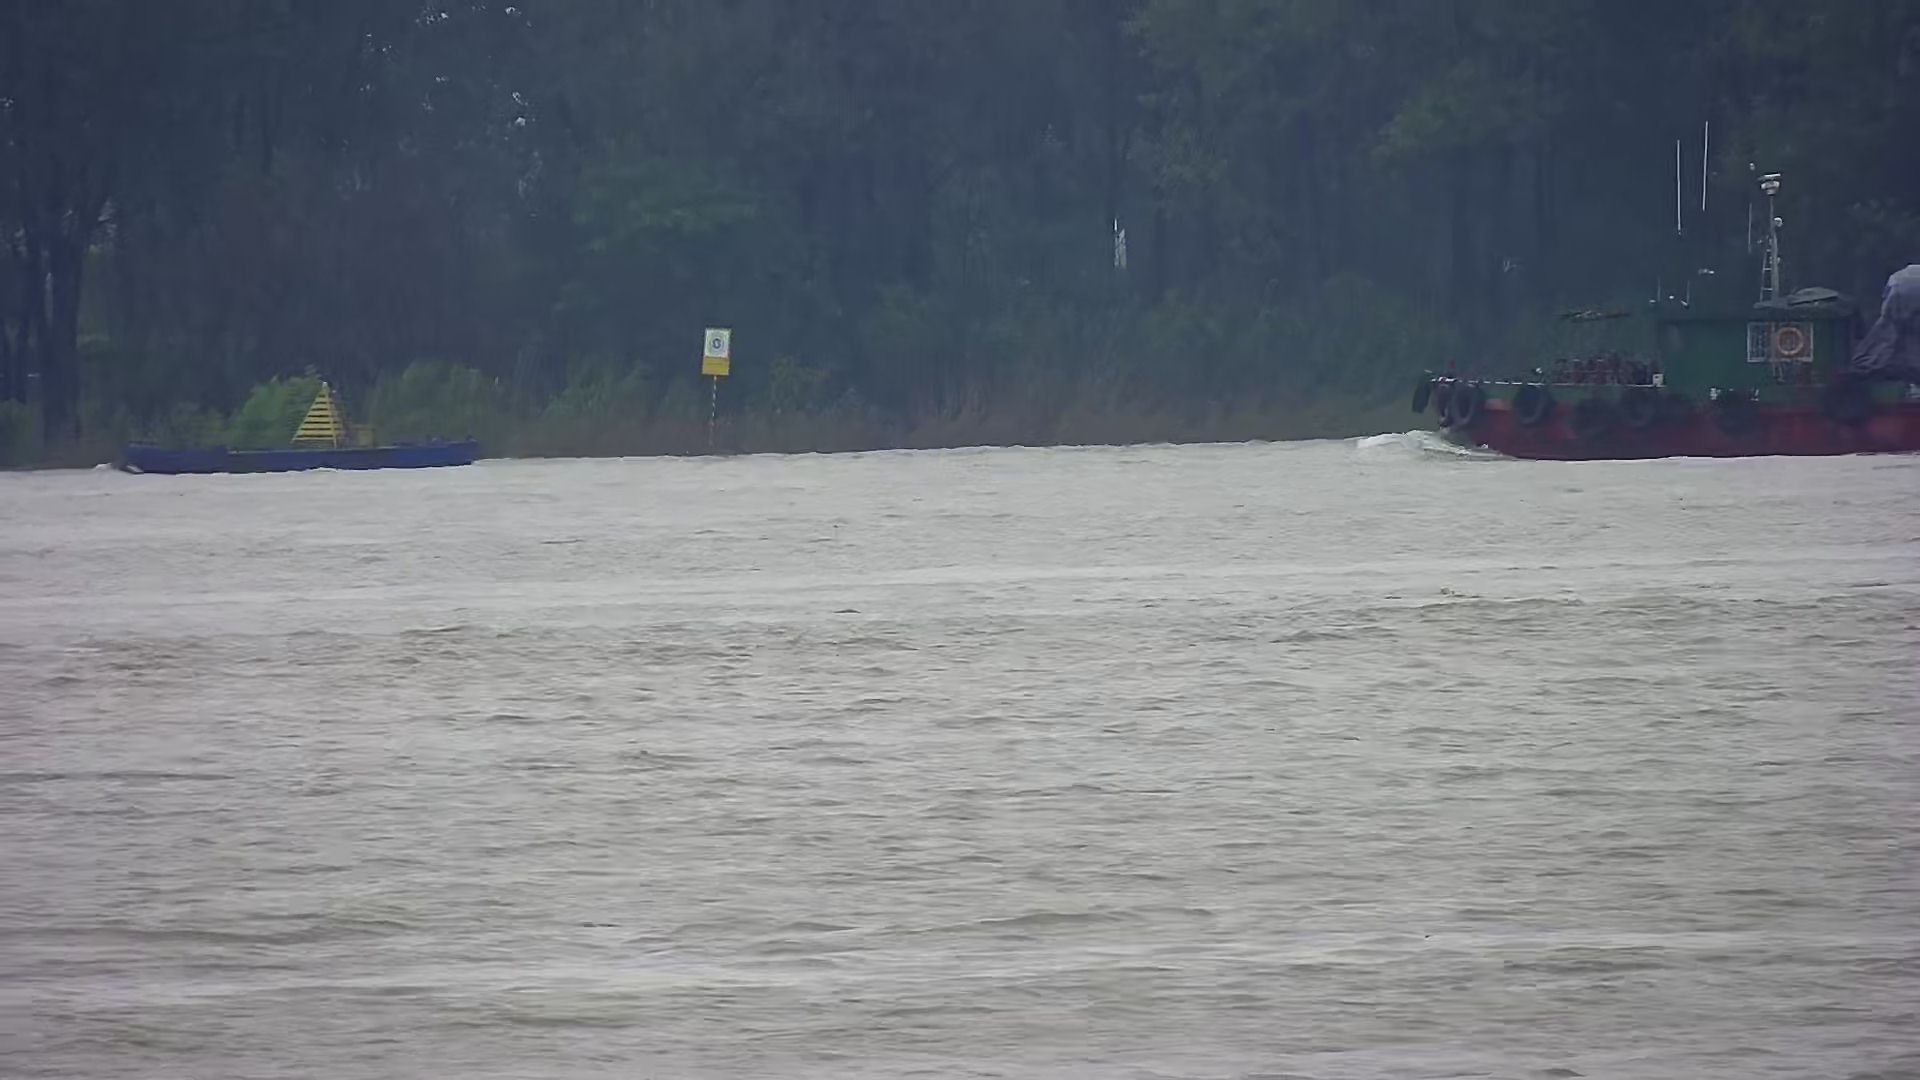boat: (117, 382, 480, 473)
mast: (699, 330, 731, 454)
ship: (1412, 170, 1920, 460)
